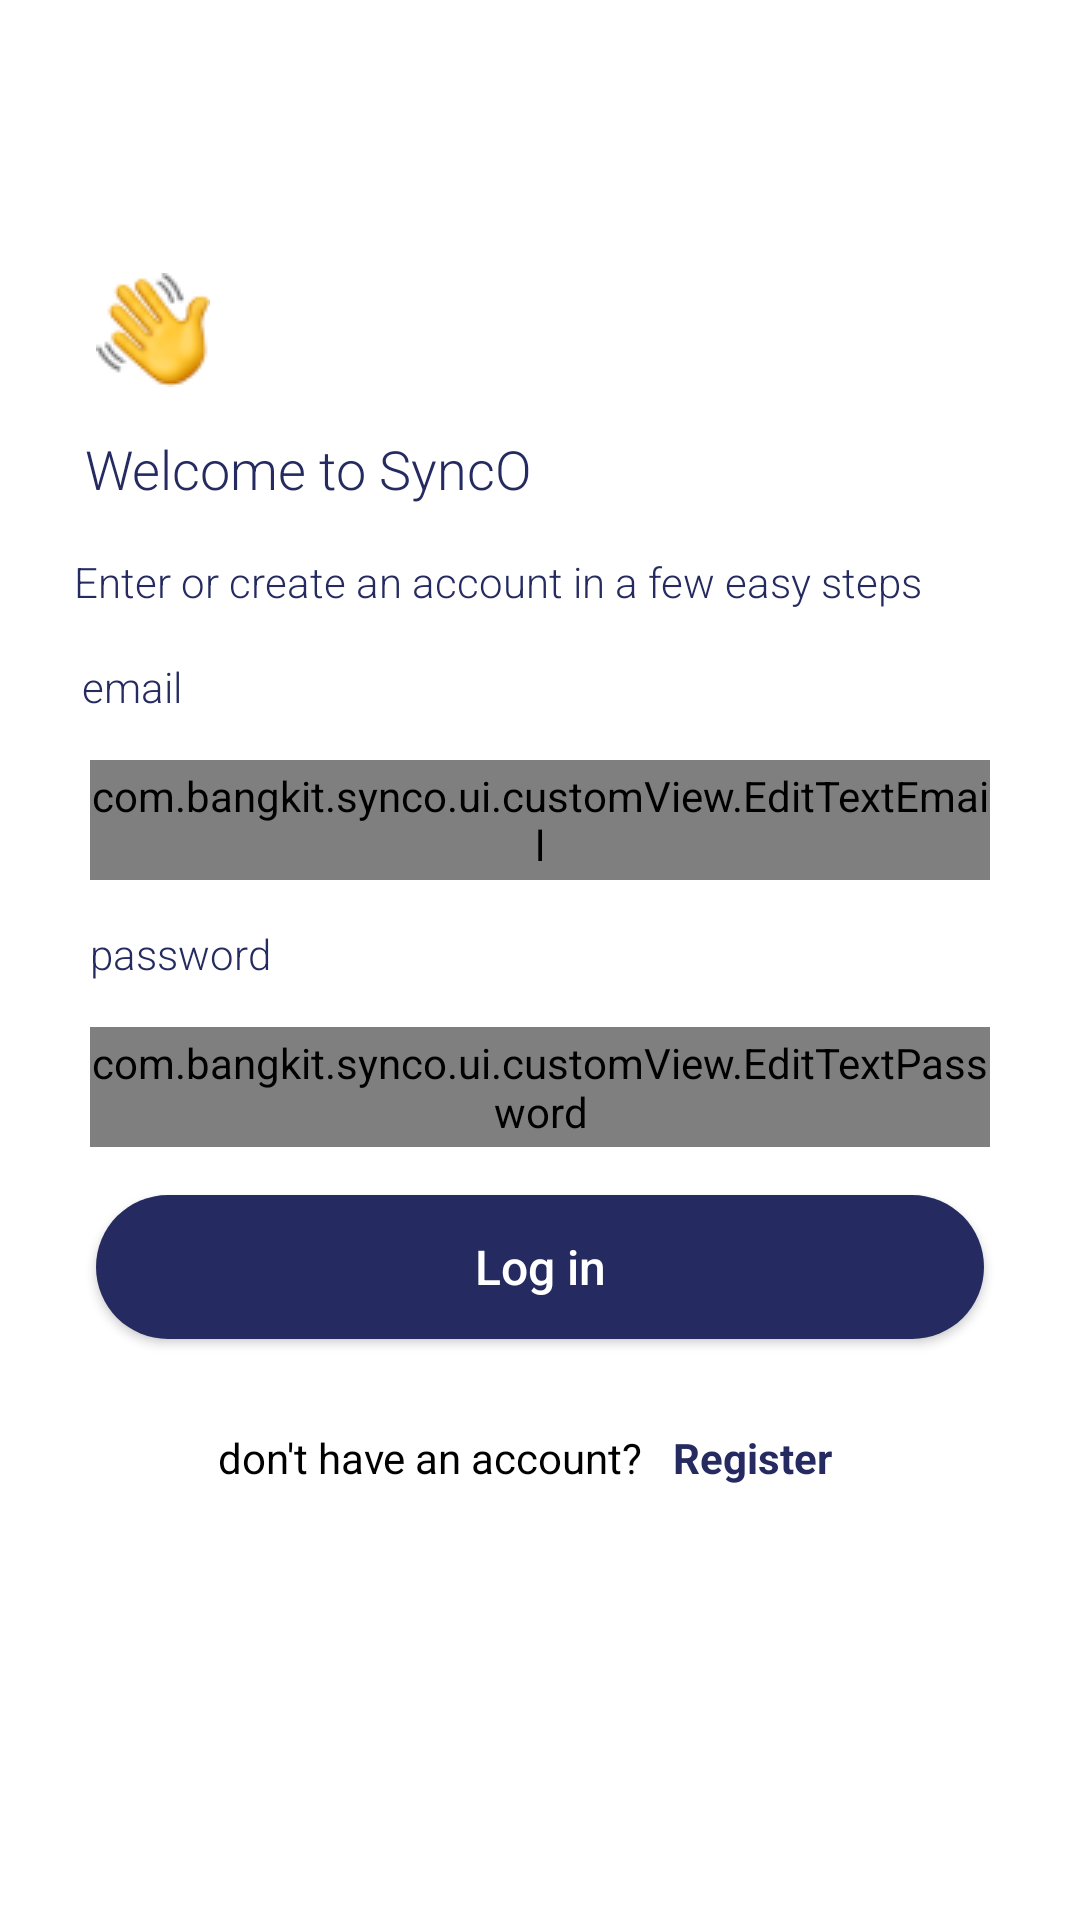

Where icons sit on this 1080px x 1920px app screen, as [x1,y1,x2,y2]:
wave: [96,273,210,387]
